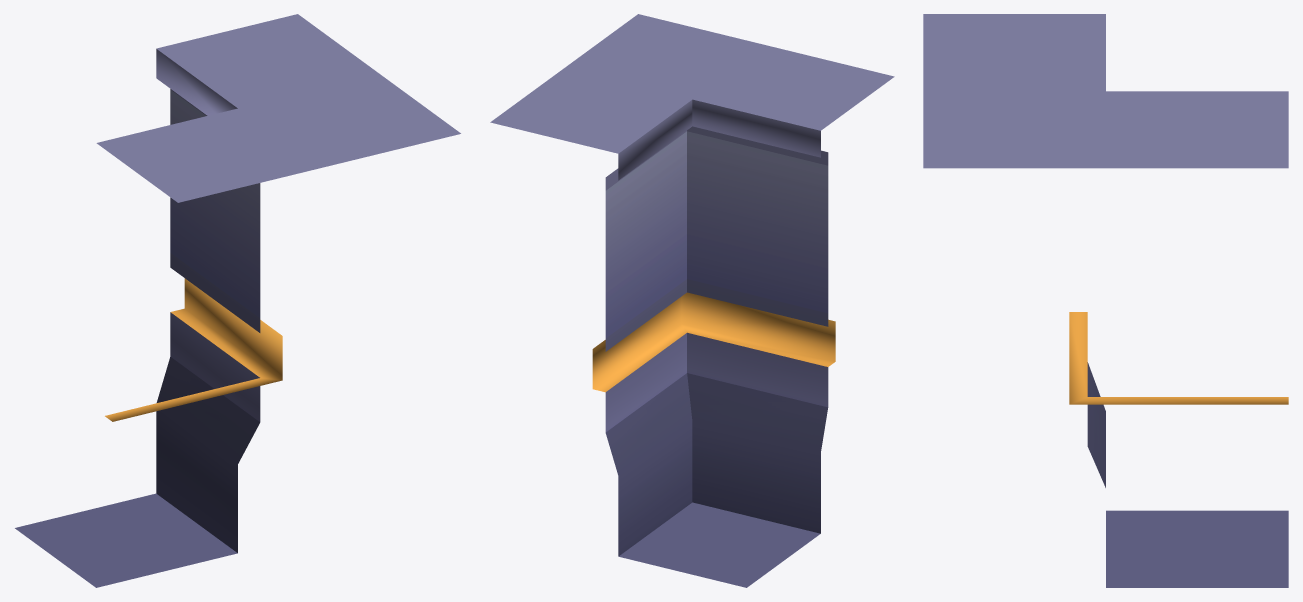
Rendered from kenney-conveyor-structure-corner-inner.glb.
3 views of the same model, side by side, from view 1: azimuth 30°, elevation 25°; view 2: azimuth 150°, elevation 25°; view 3: azimuth 270°, elevation 25° (orthographic). The views are drawn at different scales.
Visible parts, largest first — view 1: structure-corner-inner; view 2: structure-corner-inner; view 3: structure-corner-inner.
Part boxes in pixels (<box>): structure-corner-inner: <box>15,14,460,587</box>; structure-corner-inner: <box>490,14,894,587</box>; structure-corner-inner: <box>923,14,1288,587</box>.
Bounding box in the file's own units: 2 × 3 × 2.
1 material, 1 textured.
